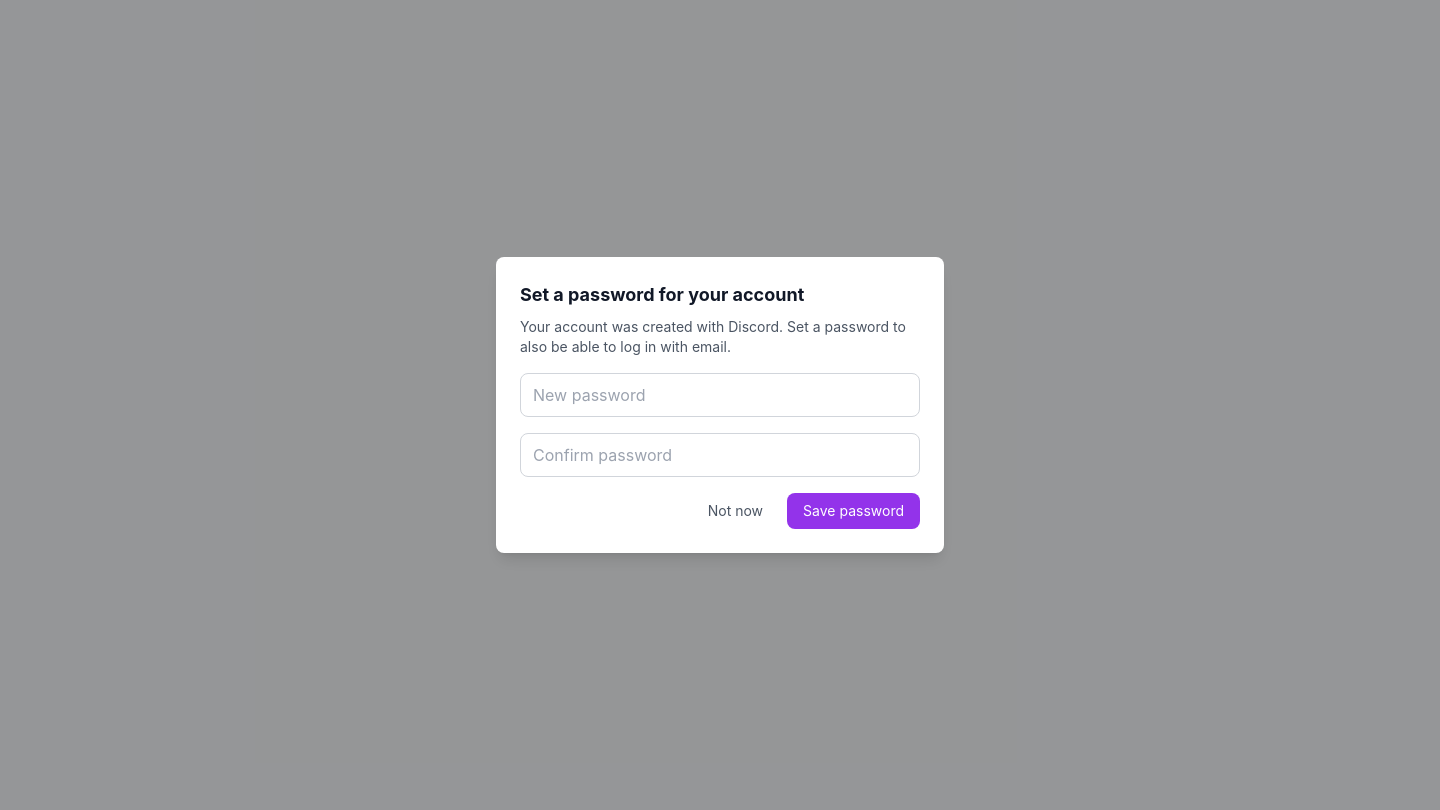
SetPasswordModal › valida que as senhas coincidem
This screenshot has width=1440, height=810.
In the password field with placeholder "New password": (720, 395) [520,373,920,417], type "ValidPass1"
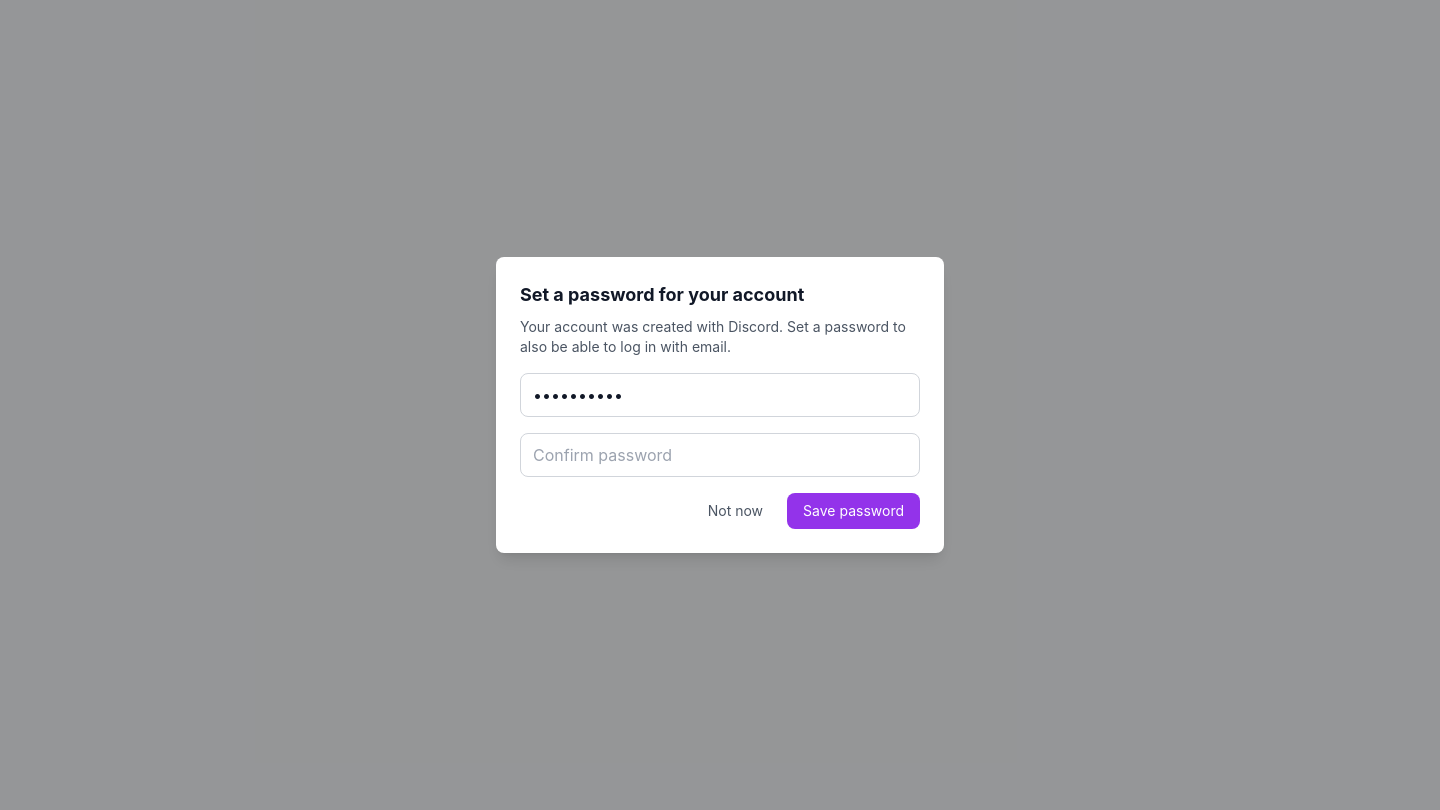
In the password field with placeholder "Confirm password": (720, 455) [520,433,920,477], type "DifferentPass1"
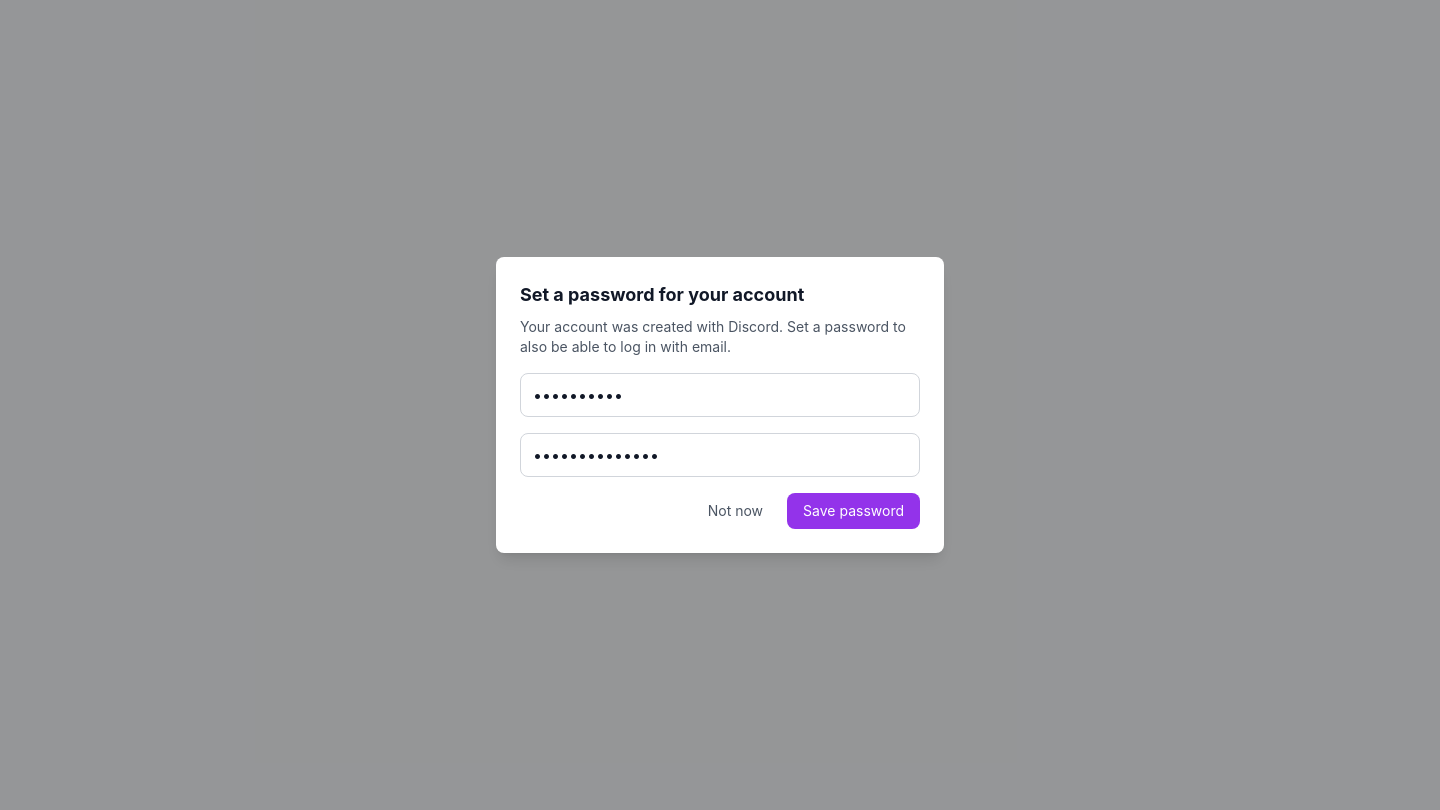
Click the submit button: (854, 511) [787,493,920,529]
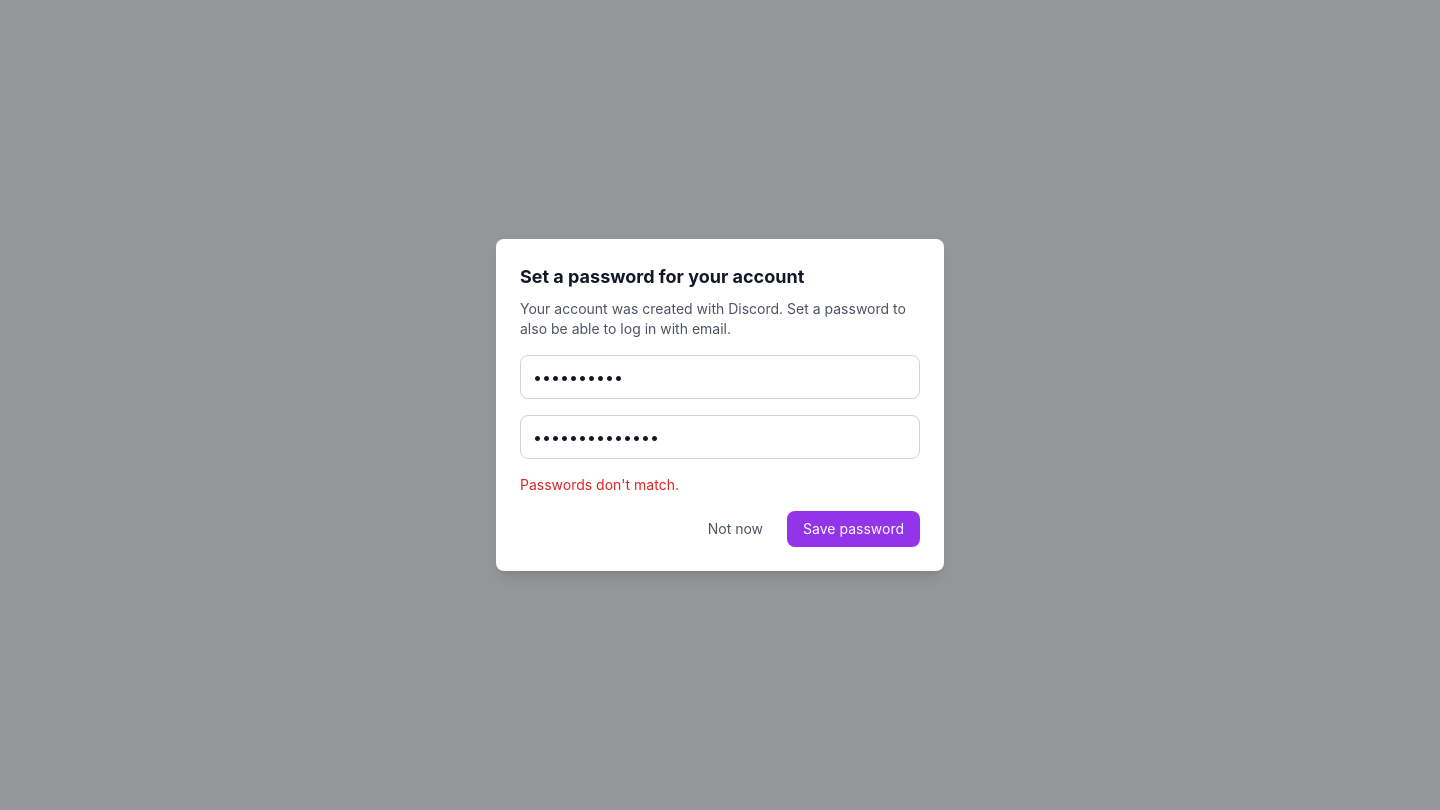
Now the text "Passwords don't match." is shown, box [520,476,679,493]
